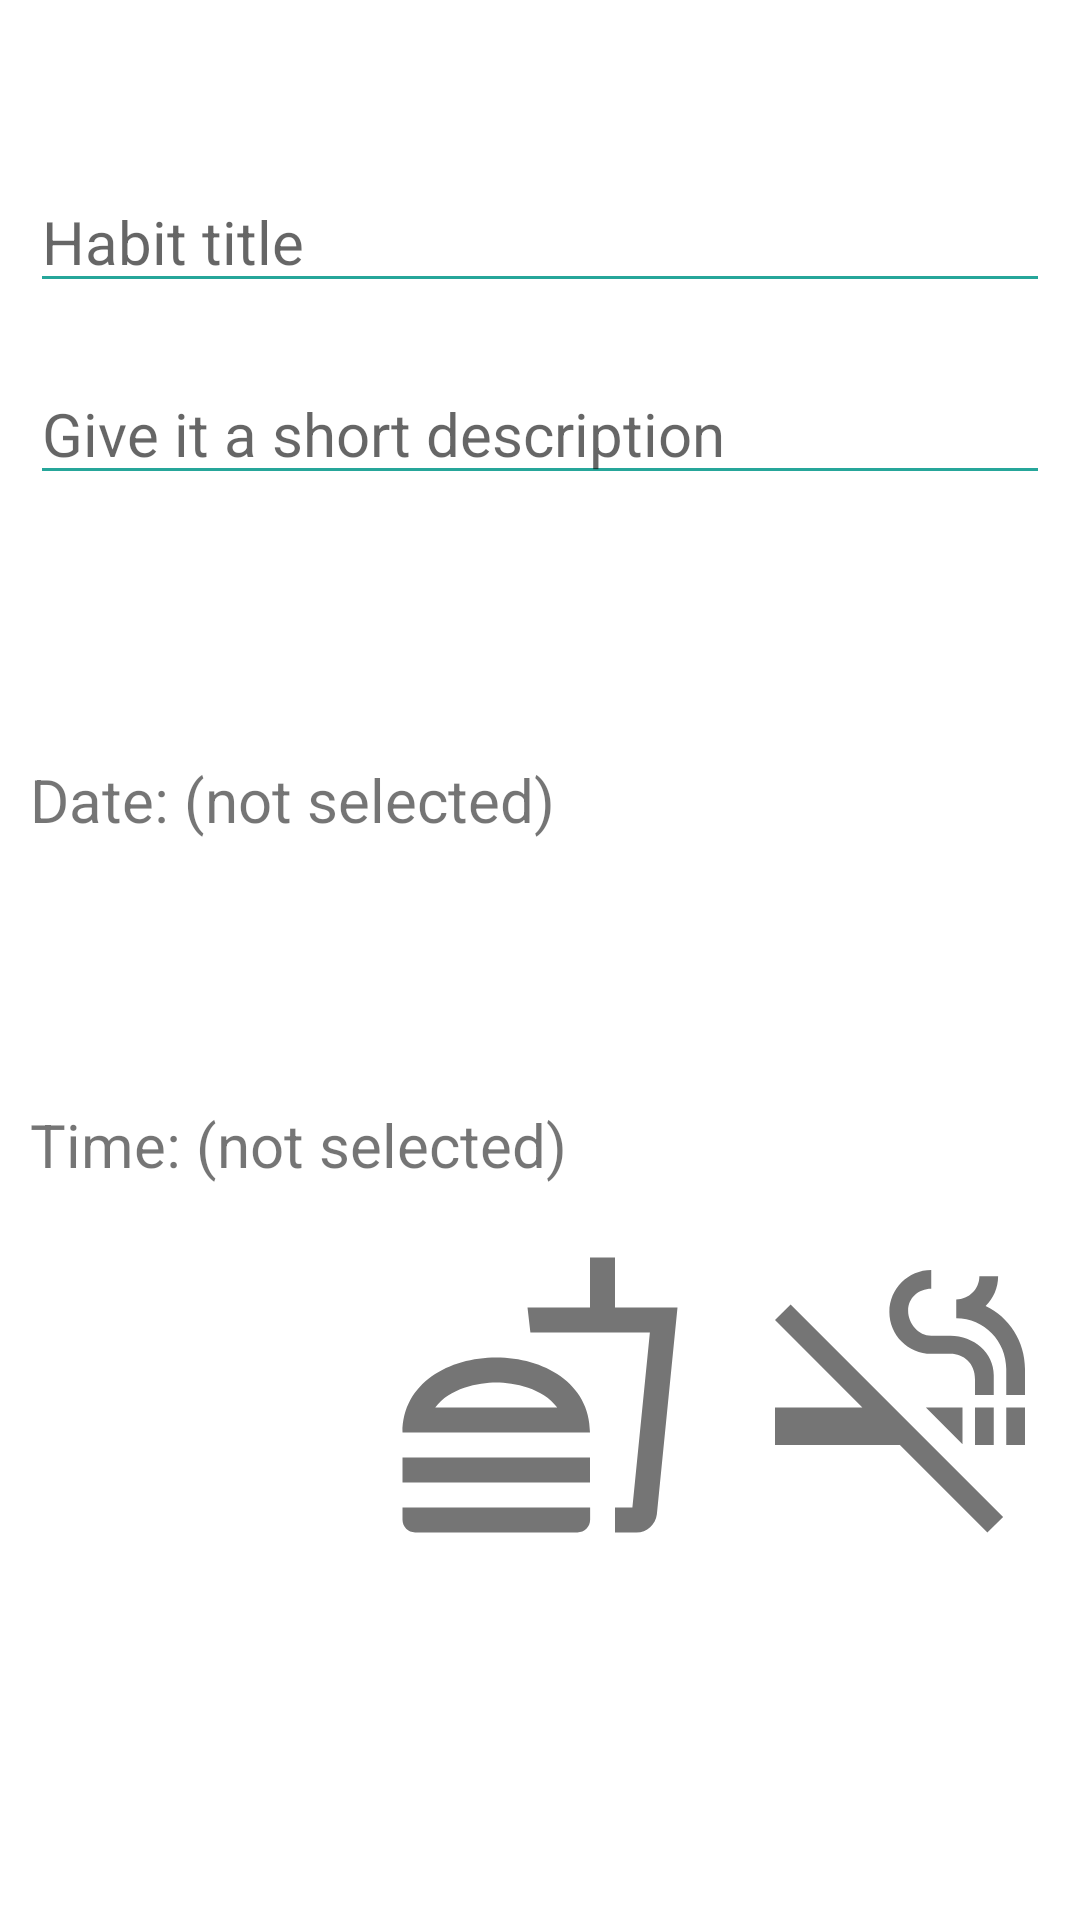

Screen size 1080px×1920px. Icon name, then its center in pixels as (x,y):
fast food: (540,1395)
smoking: (900,1401)
